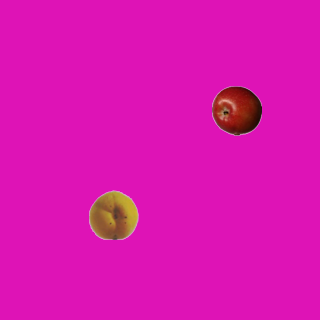Apple Braeburn: (211, 85, 261, 135)
Peach 2: (88, 189, 138, 239)
